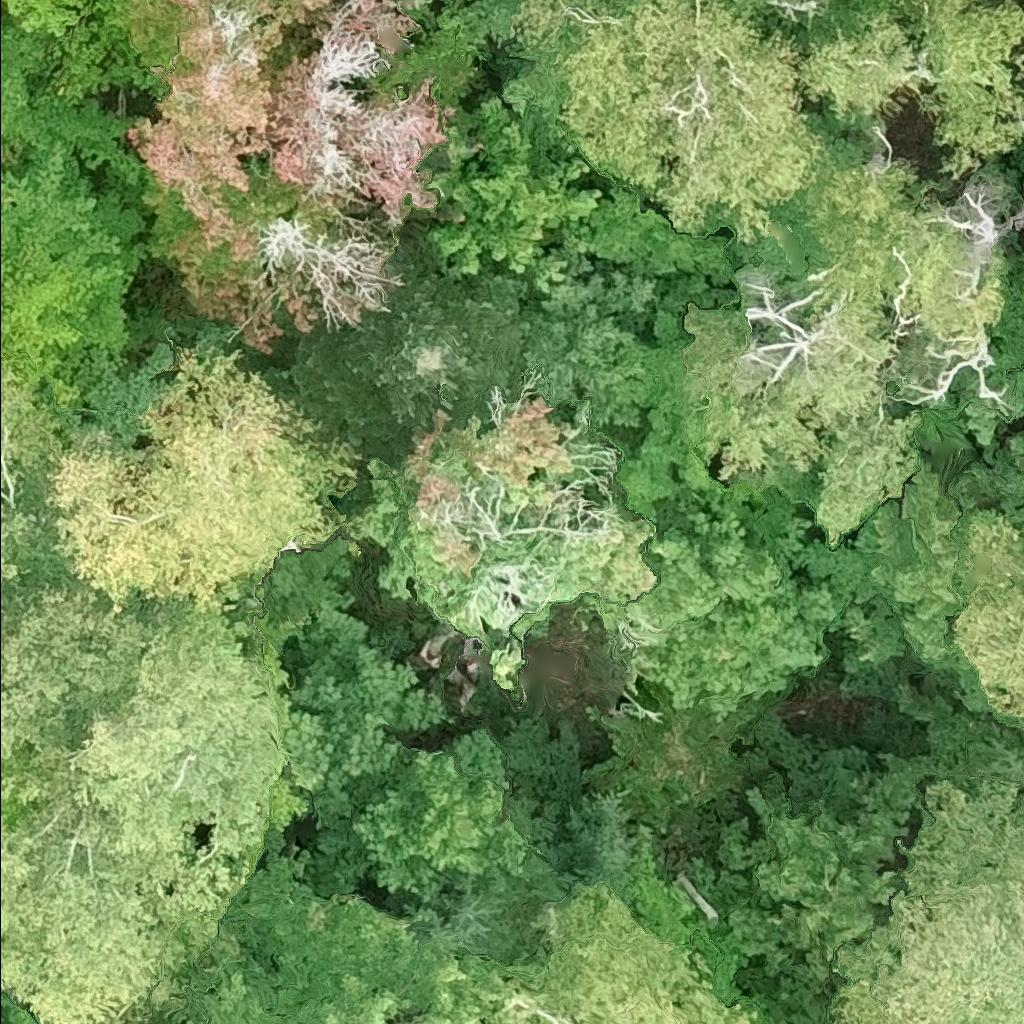crown: (689, 161, 1010, 541), (129, 0, 458, 355), (342, 364, 666, 705), (0, 592, 291, 930), (47, 337, 362, 615), (502, 0, 832, 240), (289, 247, 534, 462), (0, 140, 168, 434), (834, 778, 1023, 1023), (628, 504, 833, 718), (0, 796, 192, 1023), (200, 860, 467, 1023), (0, 514, 168, 757), (423, 69, 607, 283), (276, 605, 454, 814), (804, 0, 1023, 168), (719, 789, 900, 984), (538, 882, 771, 1023), (357, 729, 528, 894), (527, 273, 657, 429), (0, 0, 186, 87), (0, 367, 71, 586), (957, 507, 1023, 721), (448, 958, 574, 1023), (166, 963, 285, 1023), (567, 795, 631, 889), (933, 934, 984, 985), (0, 793, 65, 825), (0, 743, 42, 784), (398, 1008, 448, 1023), (792, 0, 842, 12), (46, 1019, 59, 1023), (696, 0, 708, 4), (114, 1019, 123, 1023)
